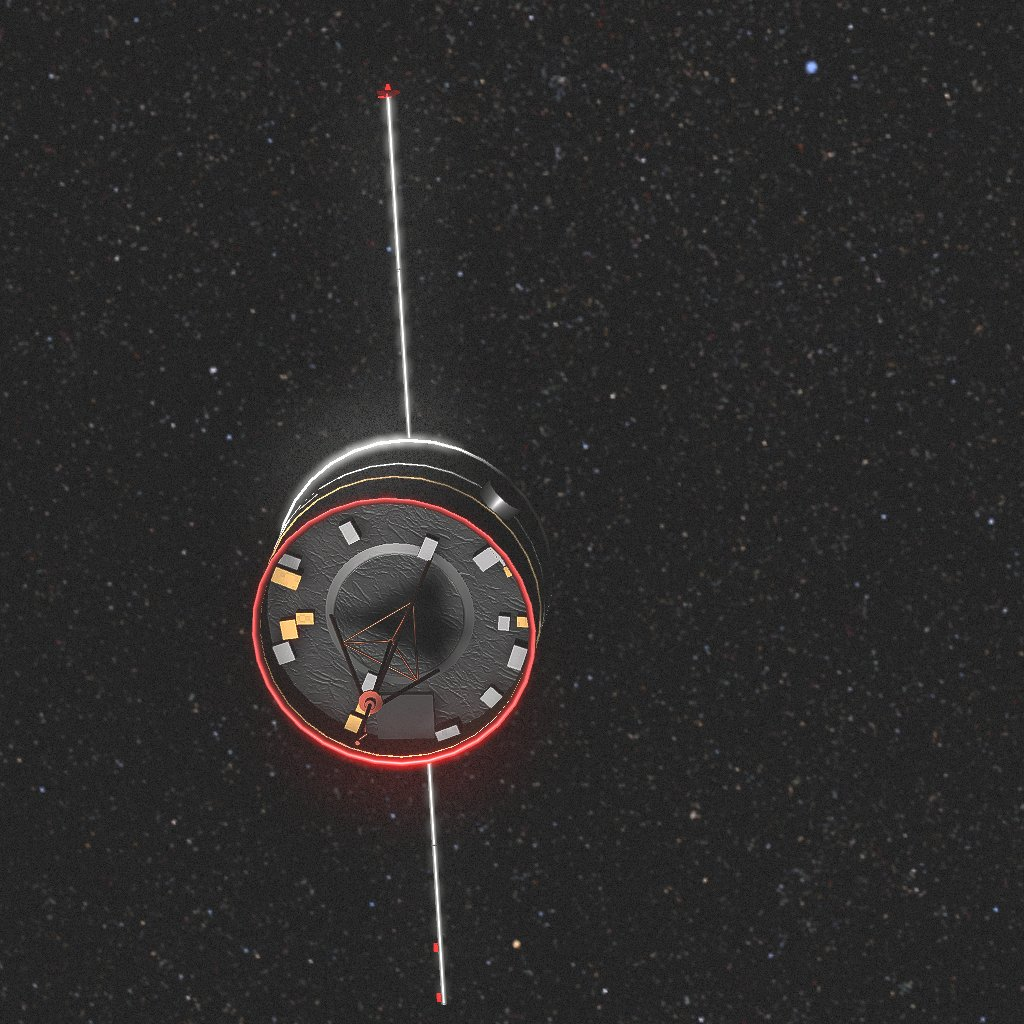double_star: (252, 83, 553, 1005)
